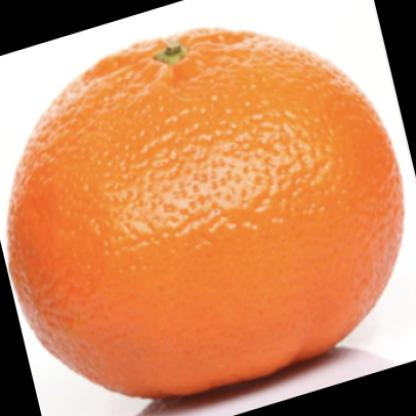fresh: (11, 30, 401, 396)
